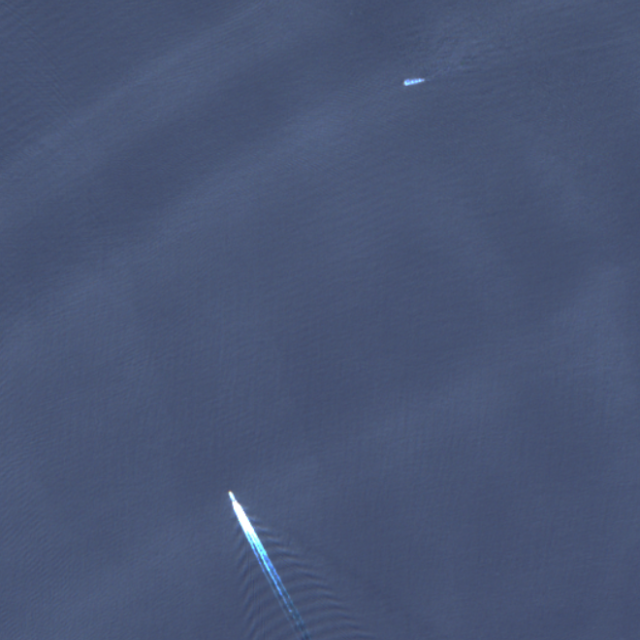wake: (182, 457, 326, 629)
